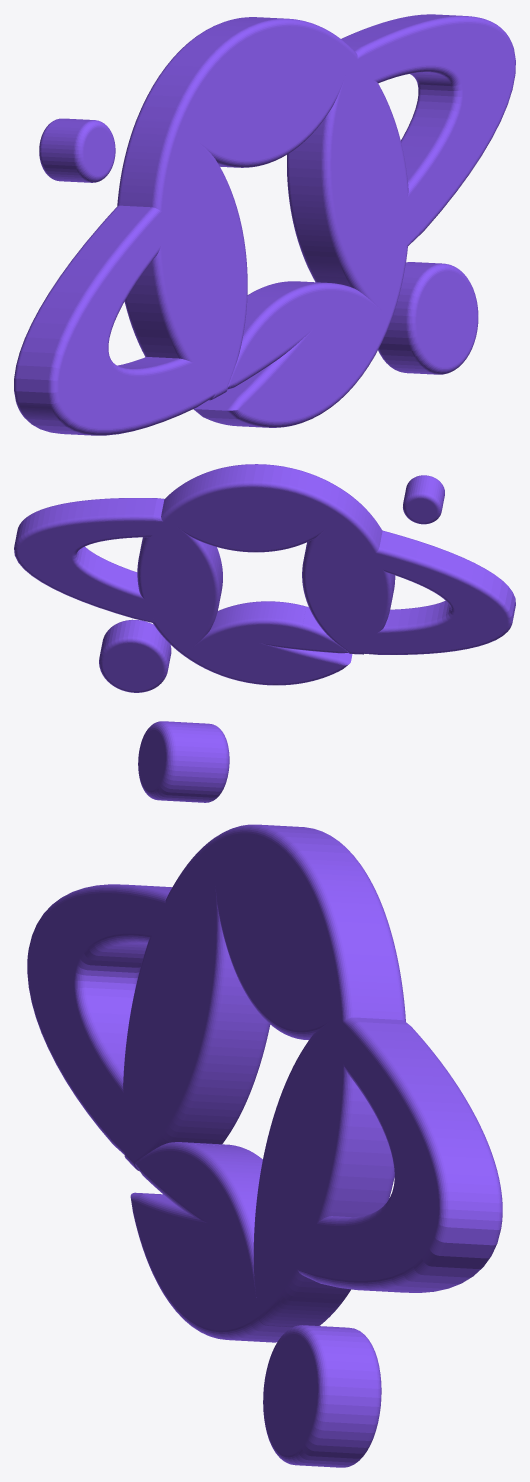
3 views of the same model, one above another, from view 1: azimuth 30°, elevation 25°; view 2: azimuth 150°, elevation 25°; view 3: azimuth 270°, elevation 25° (orthographic). The views are drawn at different scales.
Visible parts, largest first — view 1: geo-ai; view 2: geo-ai; view 3: geo-ai.
Part boxes in pixels (x1,y1,x2,y2): geo-ai: [14, 14, 515, 435]; geo-ai: [14, 464, 515, 692]; geo-ai: [27, 721, 502, 1467].
Bounding box in the file's own units: 1.16 × 0.6859 × 0.5908.
